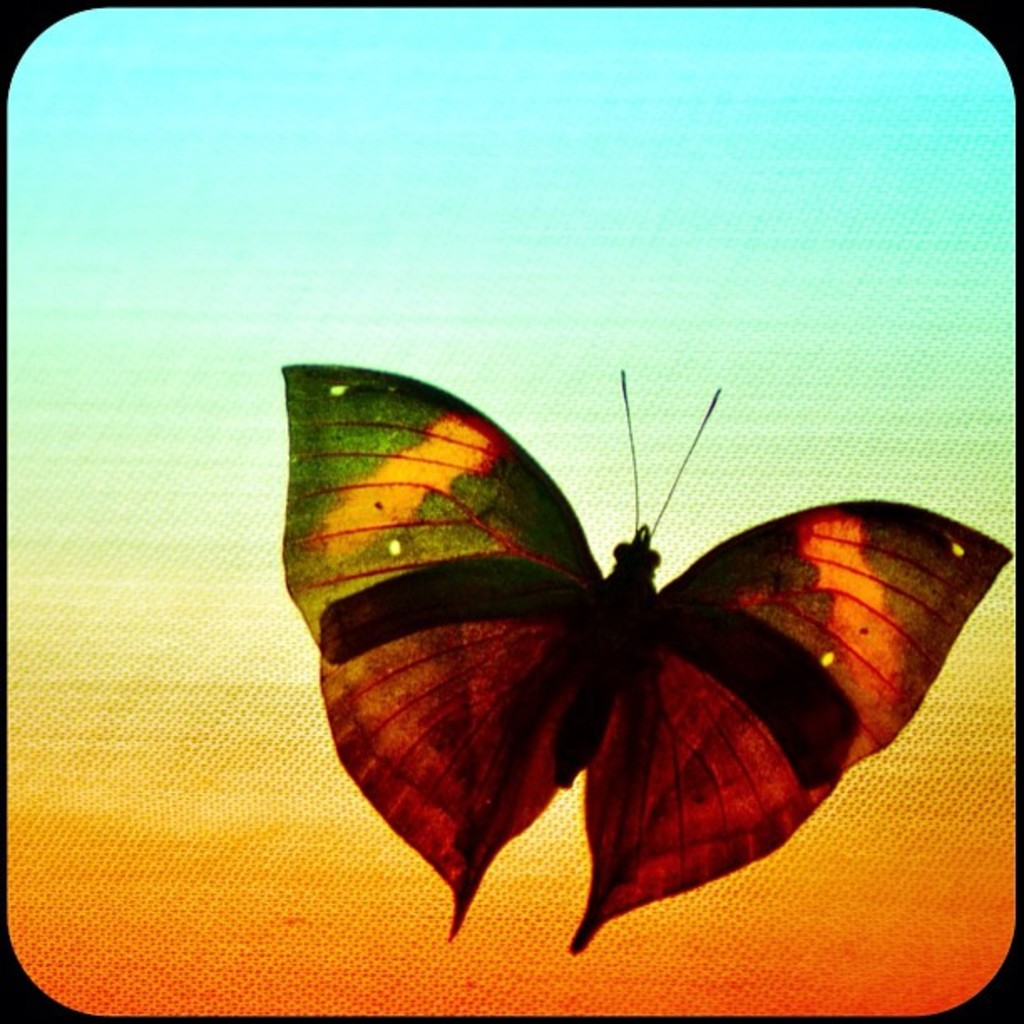Butterfly: (264, 329, 1019, 969)
